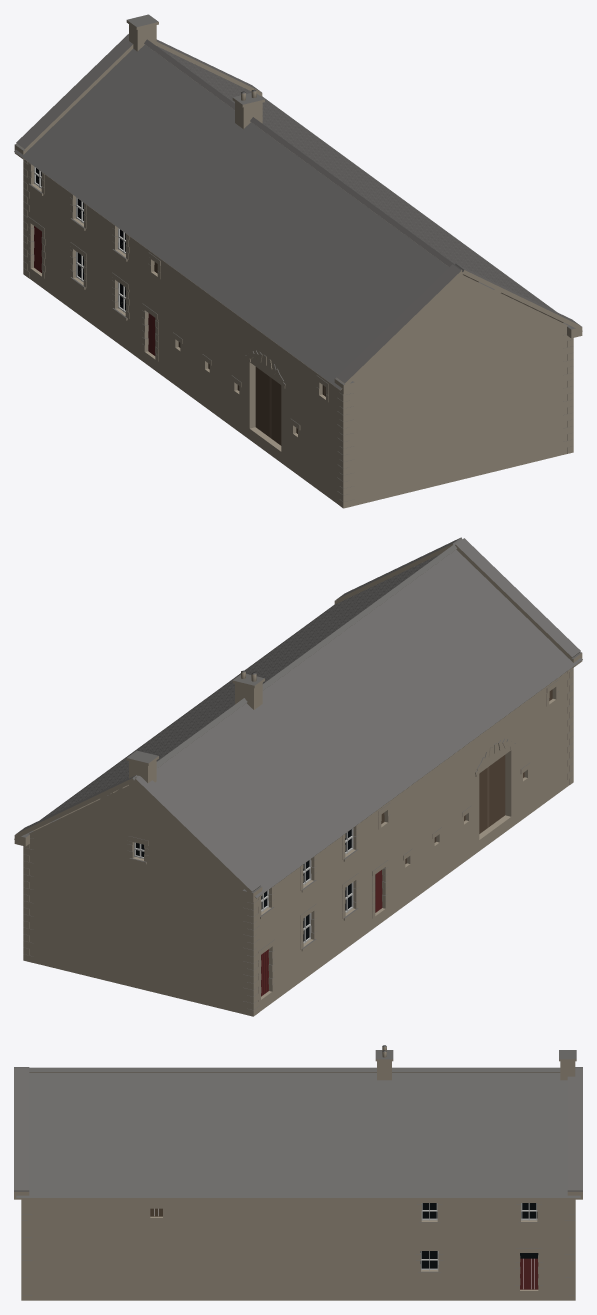
File: context.dales.house_29.glb
3 views of the same model, one above another, from view 1: azimuth 30°, elevation 25°; view 2: azimuth 150°, elevation 25°; view 3: azimuth 270°, elevation 25° (orthographic). The views are drawn at different scales.
Parts seen in each view (by area): view 1: main__slate_666, main__stone_a98, main__paint_654; view 2: main__slate_666, main__stone_a98, main__paint_654, main__paint_ccc, main__glass_dark; view 3: main__slate_666, main__stone_a98, main__glass_dark, main__paint_622, main__paint_ccc.
Part boxes in pixels (box(x1,y1,x2,y2)): main__slate_666: box(14, 14, 581, 501); main__stone_a98: box(14, 20, 582, 508); main__paint_654: box(255, 367, 325, 445); main__slate_666: box(15, 537, 582, 1010); main__stone_a98: box(14, 544, 582, 1016); main__paint_654: box(479, 691, 550, 833); main__paint_ccc: box(134, 828, 353, 943); main__glass_dark: box(136, 829, 351, 941); main__slate_666: box(14, 1045, 582, 1295); main__stone_a98: box(14, 1046, 582, 1300); main__glass_dark: box(420, 1203, 538, 1268); main__paint_622: box(520, 1258, 538, 1289); main__paint_ccc: box(420, 1203, 537, 1270).
Size of the model in its own units: 11.44 by 10.6 by 26.84.
